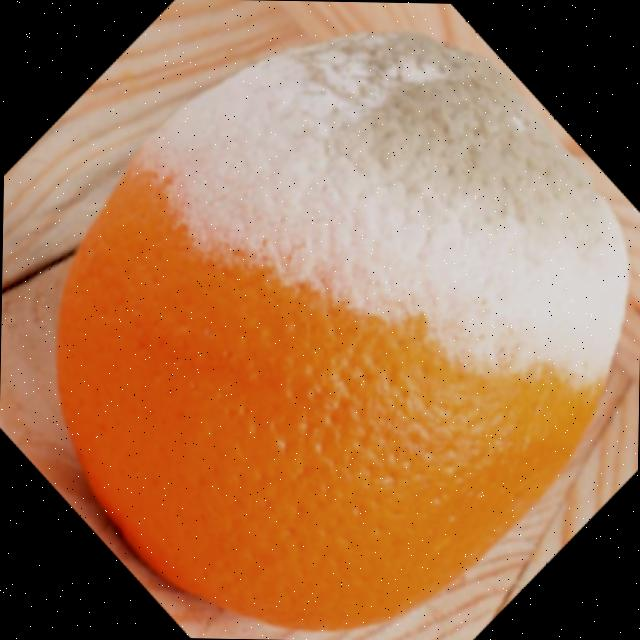Rotten: (54, 23, 634, 630)
